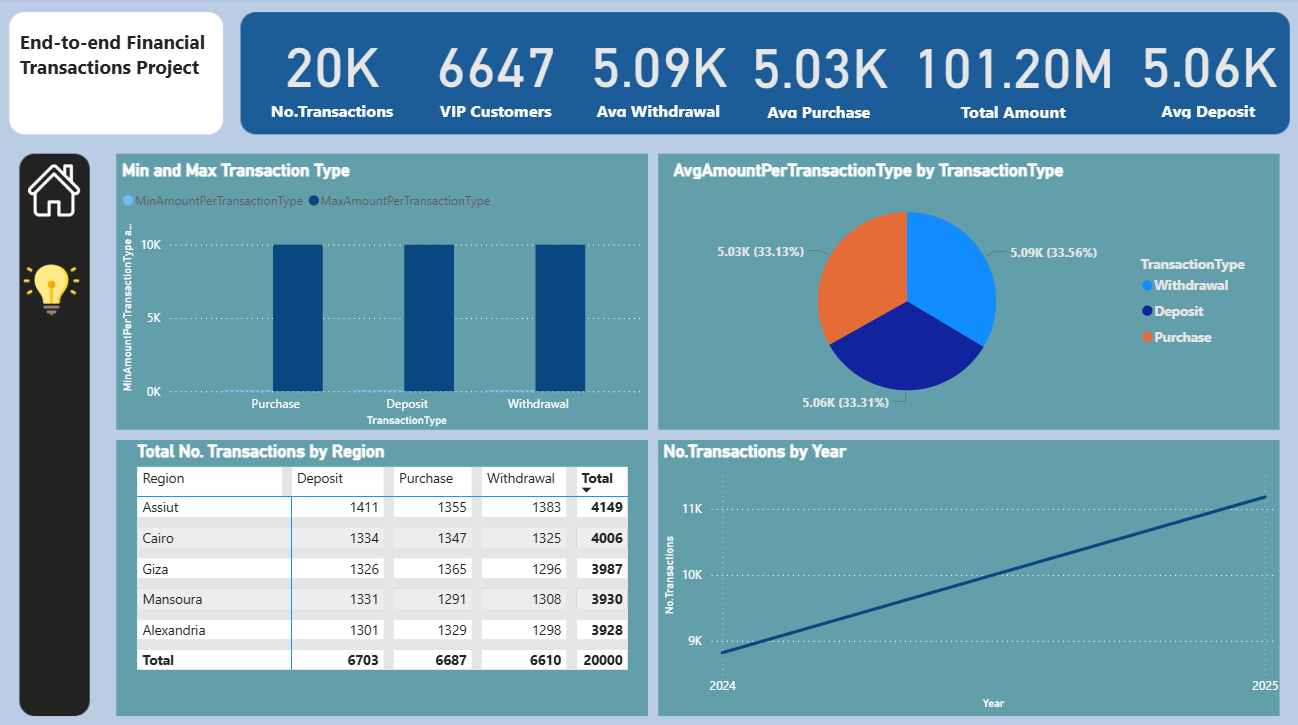

What the dashboard file says about the page in this screenshot:
{"tool":"powerbi","page":{"name":"Page 1","canvas":[1280,720],"ordinal":0},"visuals":[{"type":"card","fields":{"Values":["MyMeasures.Total No. Transactions"]},"box":[252.8,23.3,154.6,99.4],"z":0},{"type":"pieChart","fields":{"Category":["Dim_TransactionType.TransactionType"],"Y":["MyMeasures.AvgAmountPerTransactionType"]},"box":[660.1,159.5,592.6,257.7],"z":1000},{"type":"clusteredColumnChart","title":"Min and Max Transaction Type","fields":{"Category":["Dim_TransactionType.TransactionType"],"Y":["MyMeasures.MinAmountPerTransactionType","MyMeasures.MaxAmountPerTransactionType"]},"box":[119,159.5,521.5,267.5],"z":2000},{"type":"card","fields":{"Values":["MyMeasures.VIP Customers"]},"box":[417.2,23.3,147.2,99.4],"z":3000},{"type":"lineChart","fields":{"Category":["Date.Date.Variation.Date Hierarchy.Year","Date.Date.Variation.Date Hierarchy.Quarter","Date.Date.Variation.Date Hierarchy.Month","Date.Date.Variation.Date Hierarchy.Day"],"Y":["MyMeasures.Total No. Transactions"]},"box":[650.3,435.6,613.5,268.7],"z":3001},{"type":"card","fields":{"Values":["MyMeasures.Total Amount"]},"box":[894.5,24.5,208.6,99.4],"z":3002},{"type":"card","fields":{"Values":["MyMeasures.Avg Deposit"]},"box":[1116.6,23.3,147.2,100.6],"z":3003},{"type":"card","fields":{"Values":["MyMeasures.Avg Withdrawal"]},"box":[576.7,23.3,147.2,99.4],"z":3004},{"type":"card","fields":{"Values":["MyMeasures.Avg Purchase"]},"box":[733.7,24.5,148.5,99.4],"z":3005},{"type":"textbox","box":[18.4,25.8,201.2,96.9],"z":3006},{"type":"pivotTable","title":"Total No. Transactions by Region","fields":{"Rows":["Dim_Region.Region"],"Columns":["Dim_TransactionType.TransactionType"],"Values":["MyMeasures.Total No. Transactions"]},"box":[133.7,435.6,506.8,268.7],"z":3007},{"type":"image","box":[25.8,159.5,62.6,61.4],"z":3010},{"type":"image","box":[20.9,254,67.5,67.5],"z":3011}]}

Visuals, with their boxes in screenshot pixels (x1, y1, x2, y2), scaled from the page's 1280x720 canvas onto the 1298x725 screenshot:
card - MyMeasures.Total No. Transactions: BBox(256, 23, 413, 124)
pieChart - Dim_TransactionType.TransactionType x MyMeasures.AvgAmountPerTransactionType: BBox(669, 161, 1270, 420)
"Min and Max Transaction Type" clusteredColumnChart: BBox(121, 161, 650, 430)
card - MyMeasures.VIP Customers: BBox(423, 23, 572, 124)
lineChart - Date.Date.Variation.Date Hierarchy.Year x Date.Date.Variation.Date Hierarchy.Quarter: BBox(659, 439, 1282, 709)
card - MyMeasures.Total Amount: BBox(907, 25, 1119, 125)
card - MyMeasures.Avg Deposit: BBox(1132, 23, 1282, 125)
card - MyMeasures.Avg Withdrawal: BBox(585, 23, 734, 124)
card - MyMeasures.Avg Purchase: BBox(744, 25, 895, 125)
textbox: BBox(19, 26, 223, 124)
"Total No. Transactions by Region" pivotTable: BBox(136, 439, 650, 709)
image: BBox(26, 161, 90, 222)
image: BBox(21, 256, 90, 324)
